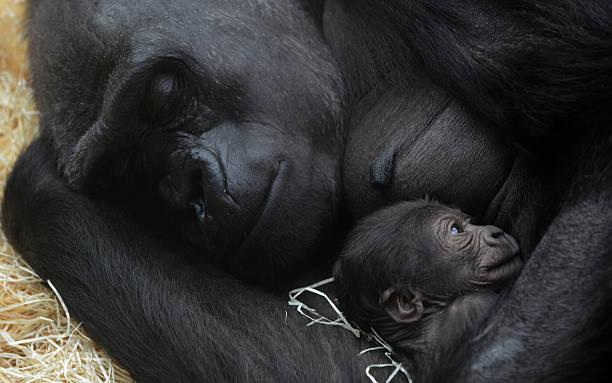gorille_Autres: (5, 1, 612, 383)
